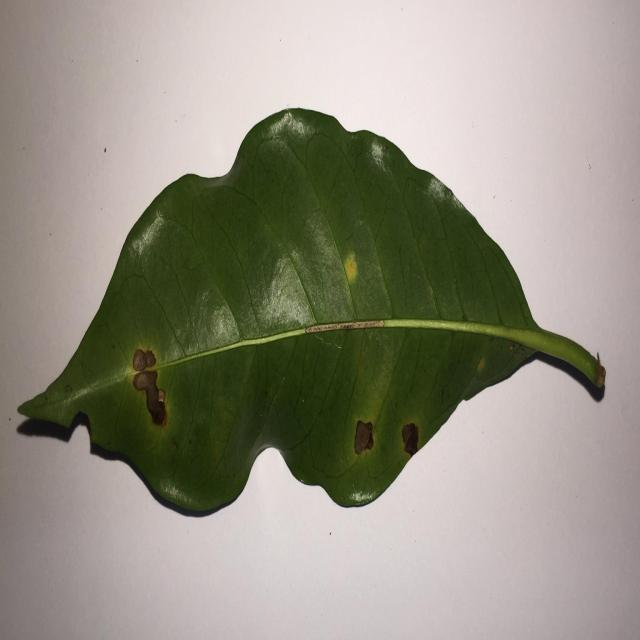Enfermedad-Mancha-de-hierro: (16, 108, 607, 519)
